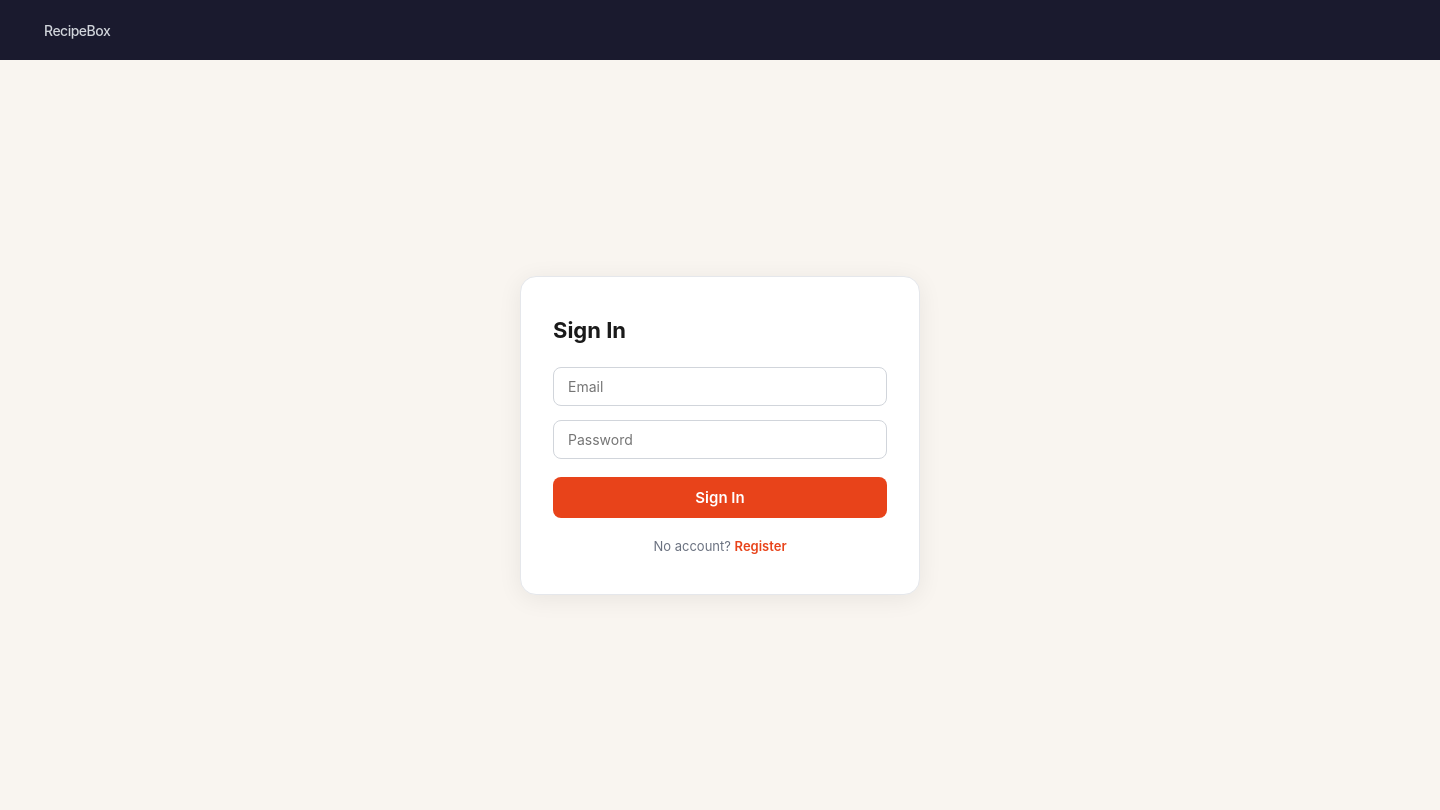
Test: protects private routes, logs in, loads recipes, and searches recipes
The image size is (1440, 810).
Expected: the heading "Sign In" is shown, [553,316,626,342]
Type "janice@email.com" into the field with placeholder "Email" at {"x": 720, "y": 386}, box [553,366,887,406]
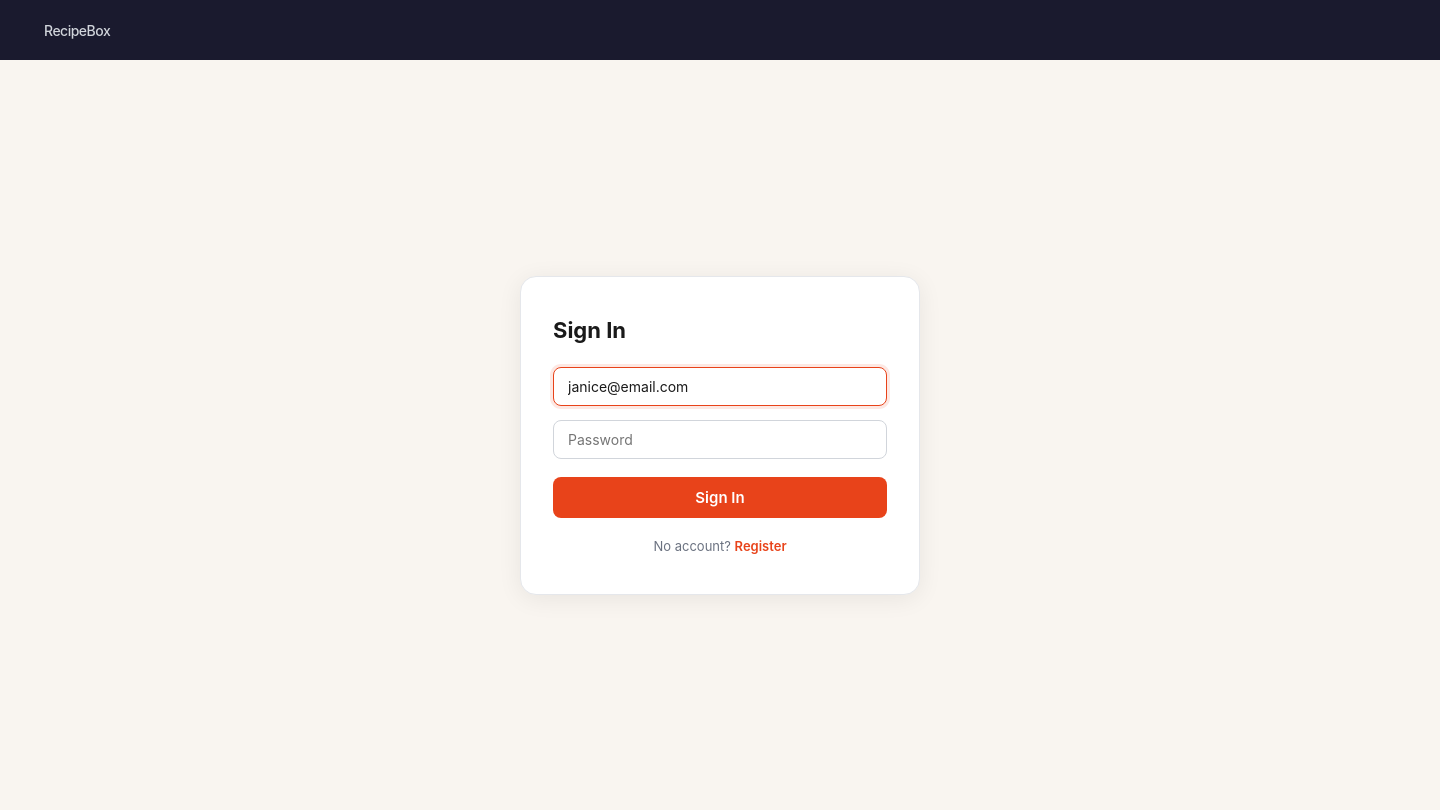
Type "password123" into the password field with placeholder "Password" at {"x": 720, "y": 439}, box [553,420,887,458]
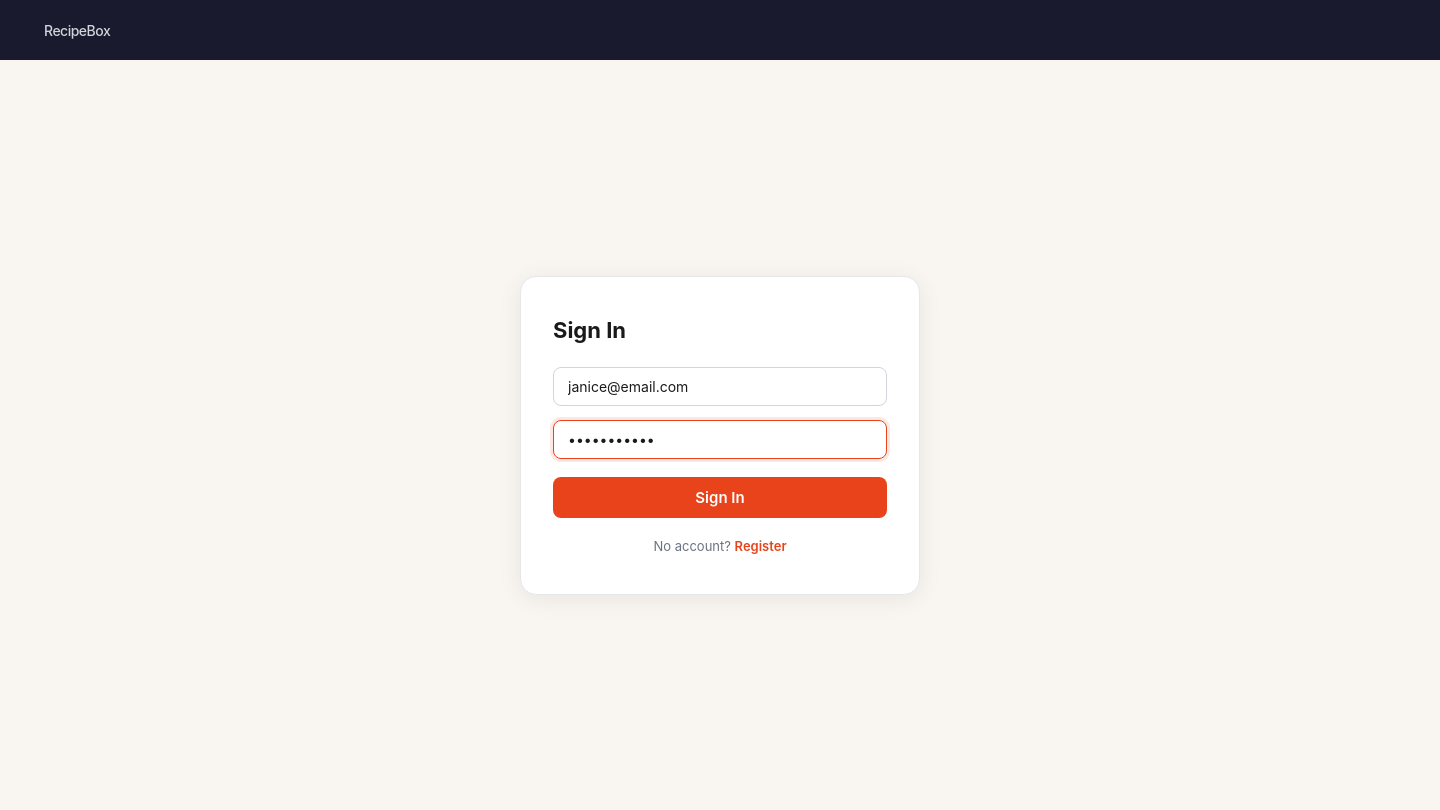
Click the button "Sign In" at {"x": 720, "y": 497}, box [553,476,887,518]
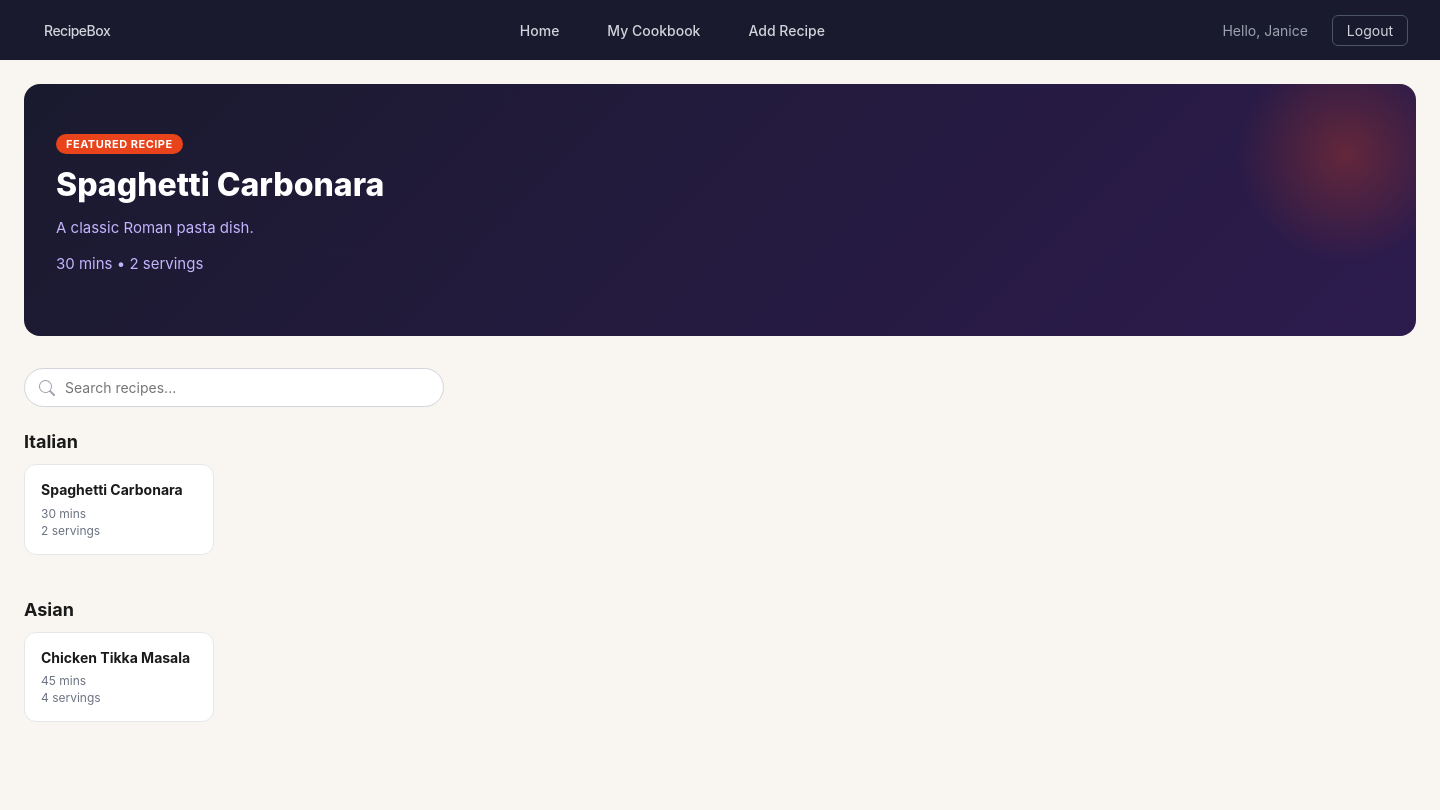
Now the text "Hello, Janice" is shown, box [1222,22,1308,38]
Now the heading "Spaghetti Carbonara" below "Featured Recipe" is shown, box [56,165,384,204]
Now the heading "Italian" is shown, box [24,431,78,452]
Type "tikka" into the field with placeholder "Search recipes..." at {"x": 234, "y": 388}, box [24,368,444,407]
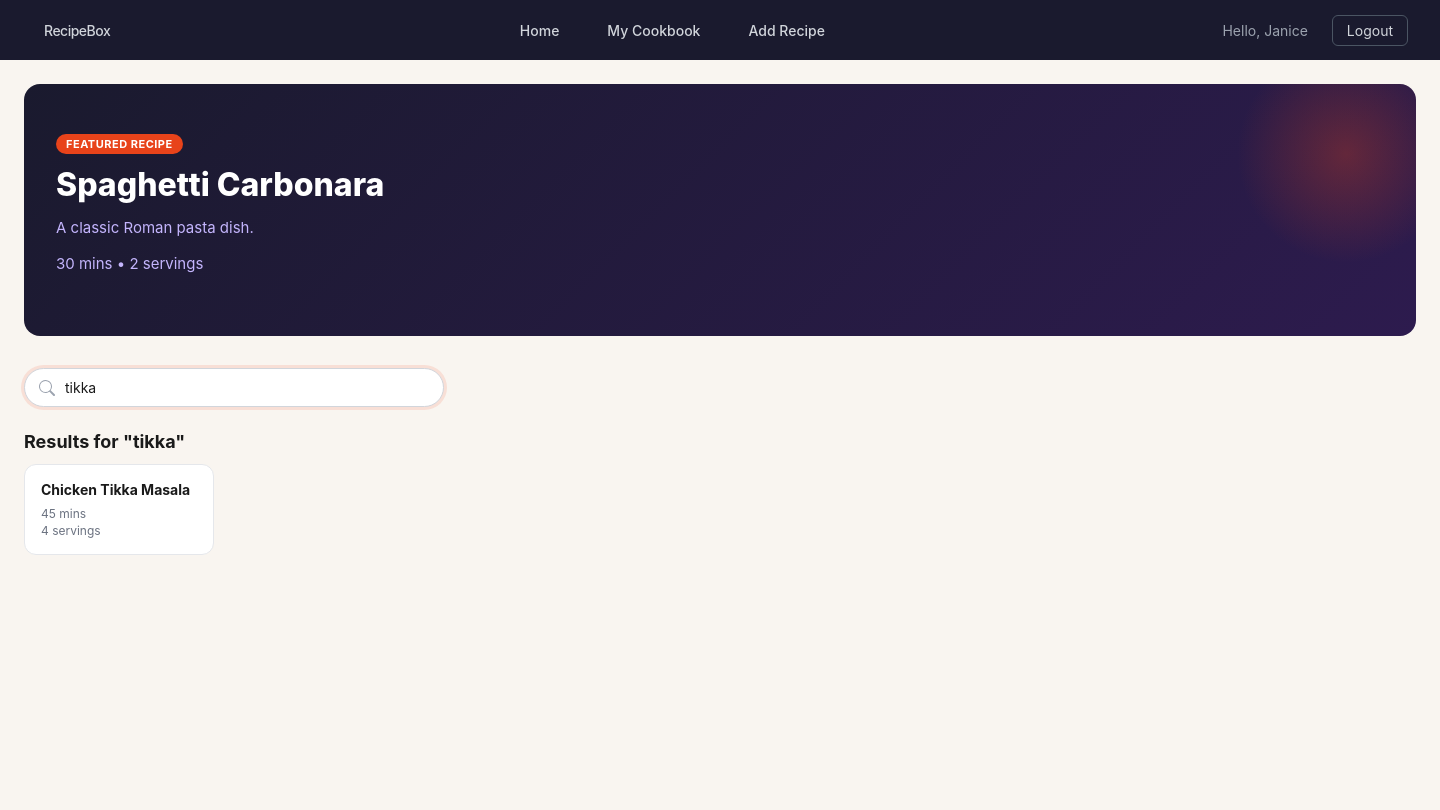
Now the heading "Chicken Tikka Masala" is shown, box [41,481,197,500]
Now the heading "Results for \"tikka\"" is shown, box [24,431,185,452]
